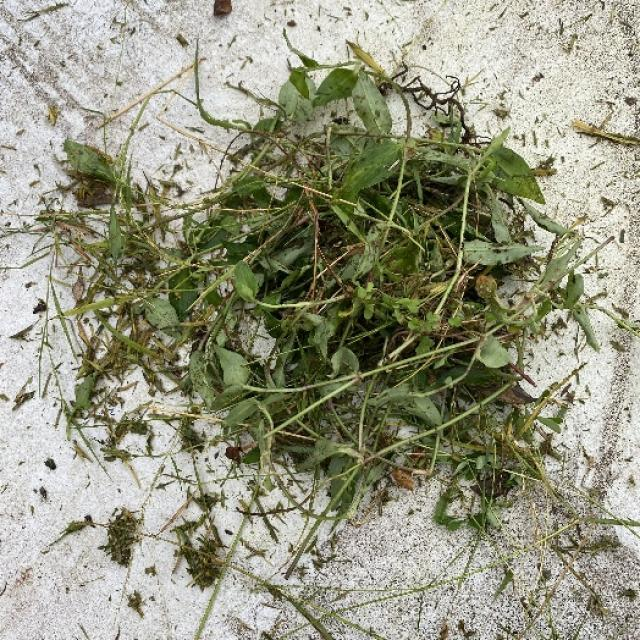organik: (152, 85, 548, 505)
